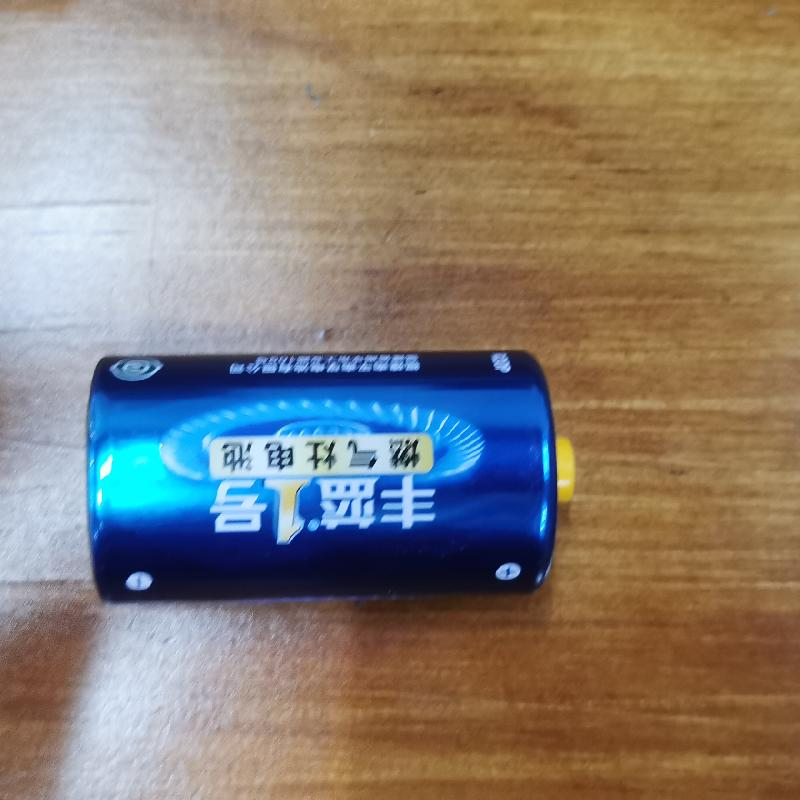battery: (80, 344, 582, 603)
